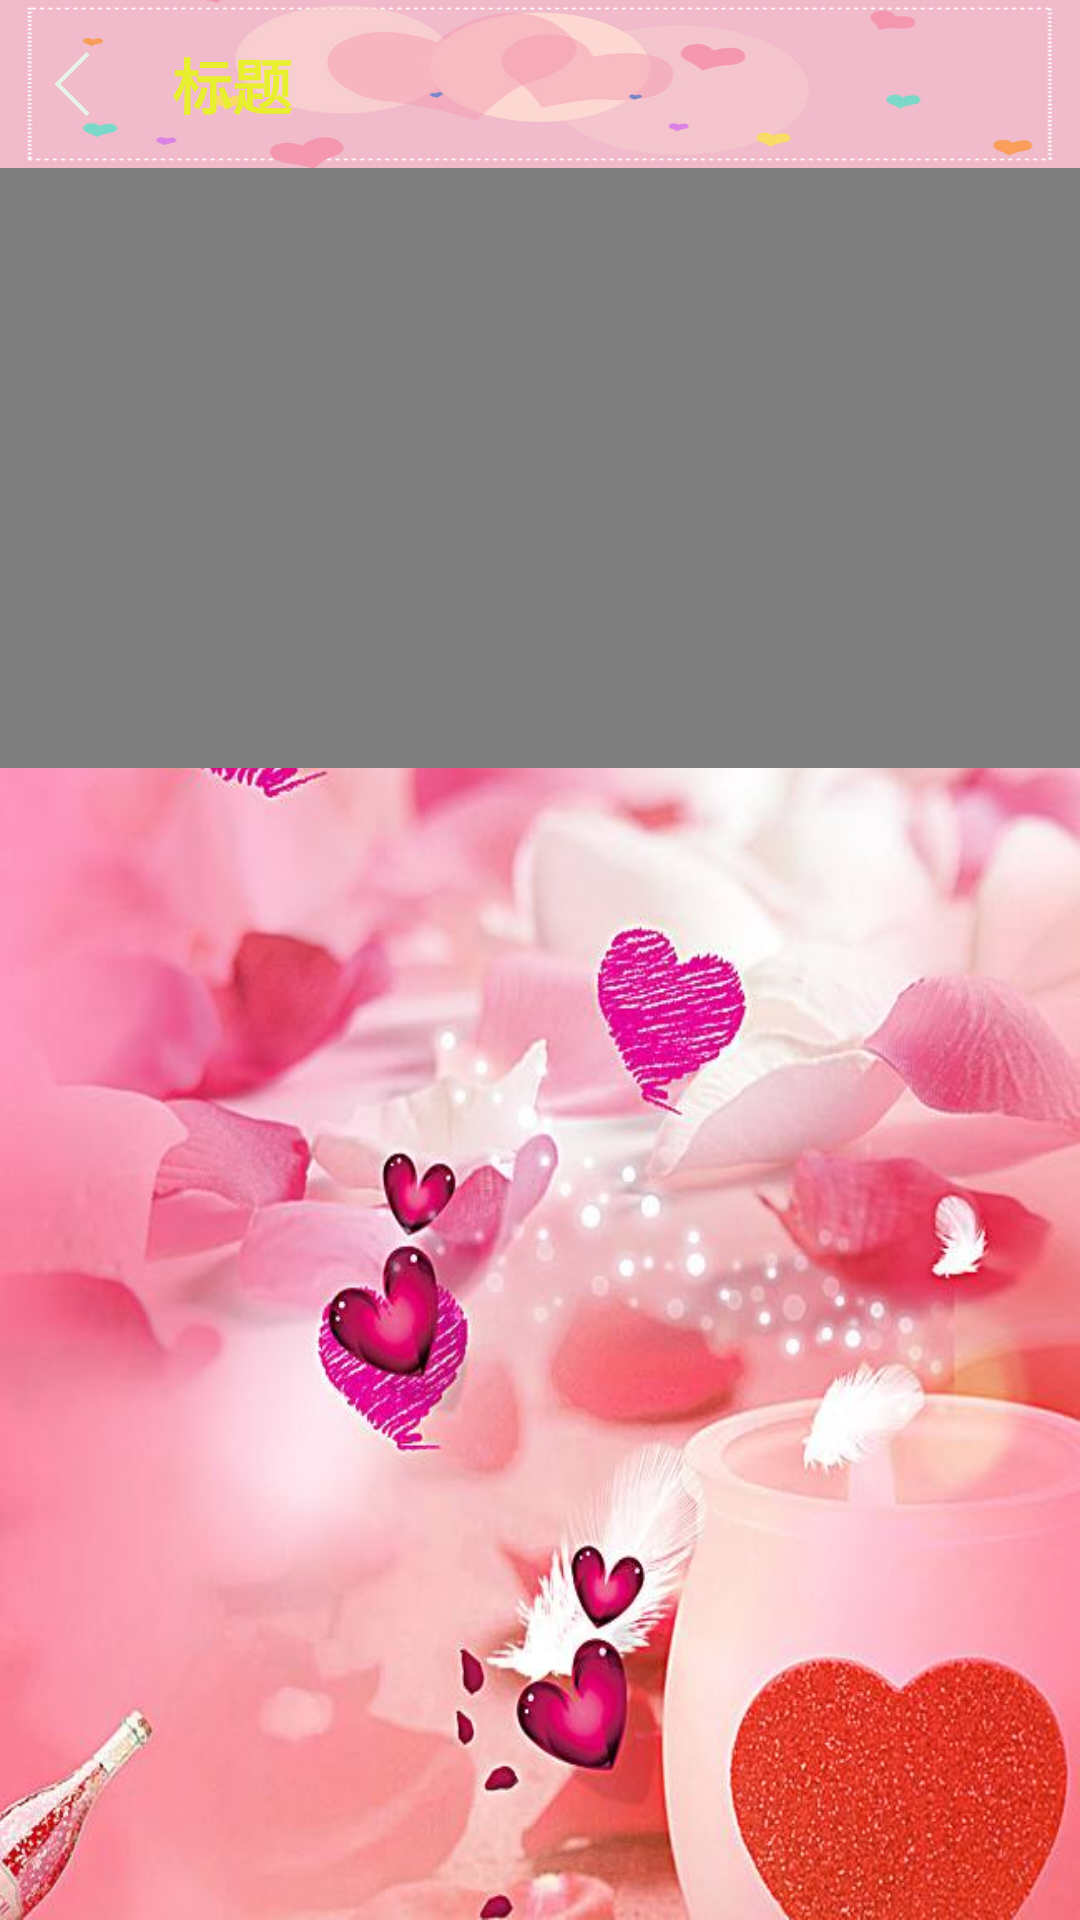

Where icons sit on this 1080 × 1920 app screen, as (x1,y1,x2,y2):
back: (55,42,103,116)
